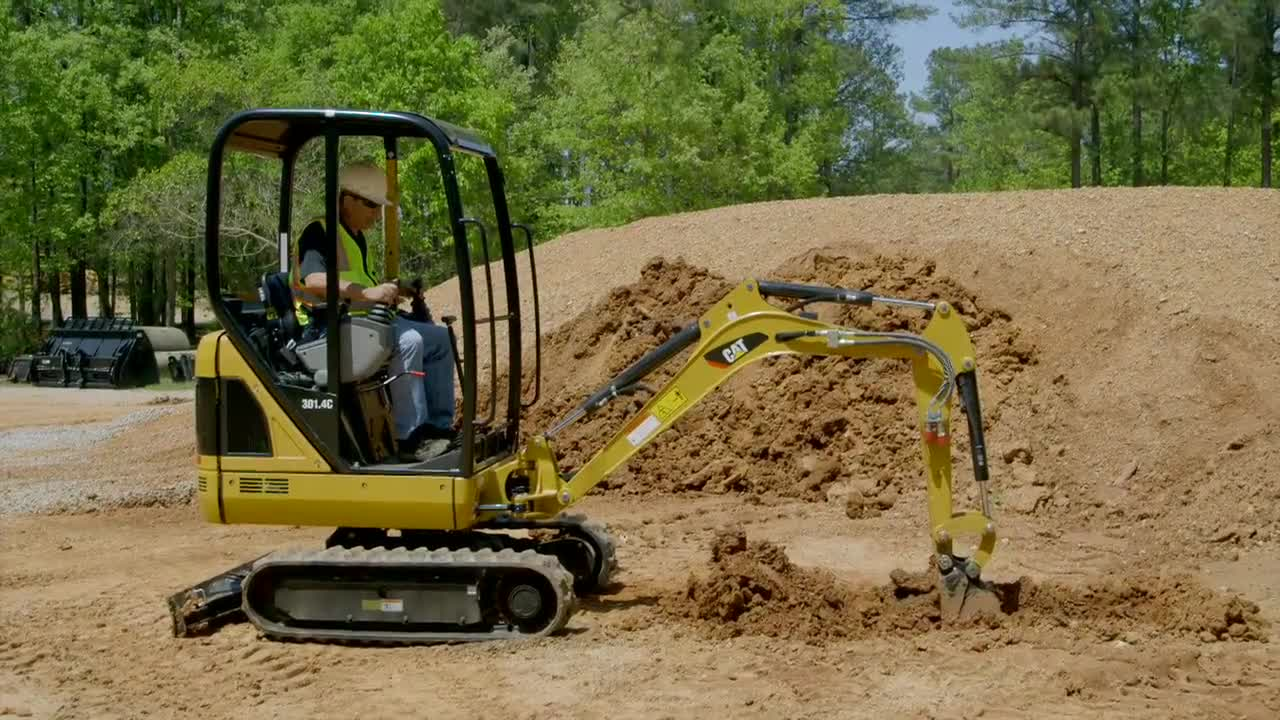attachment-bucket: (914, 550, 1018, 654)
cabin: (182, 104, 543, 533)
forearm: (914, 298, 994, 560)
upperarm: (551, 311, 928, 511)
wheelbase: (221, 511, 616, 648)
